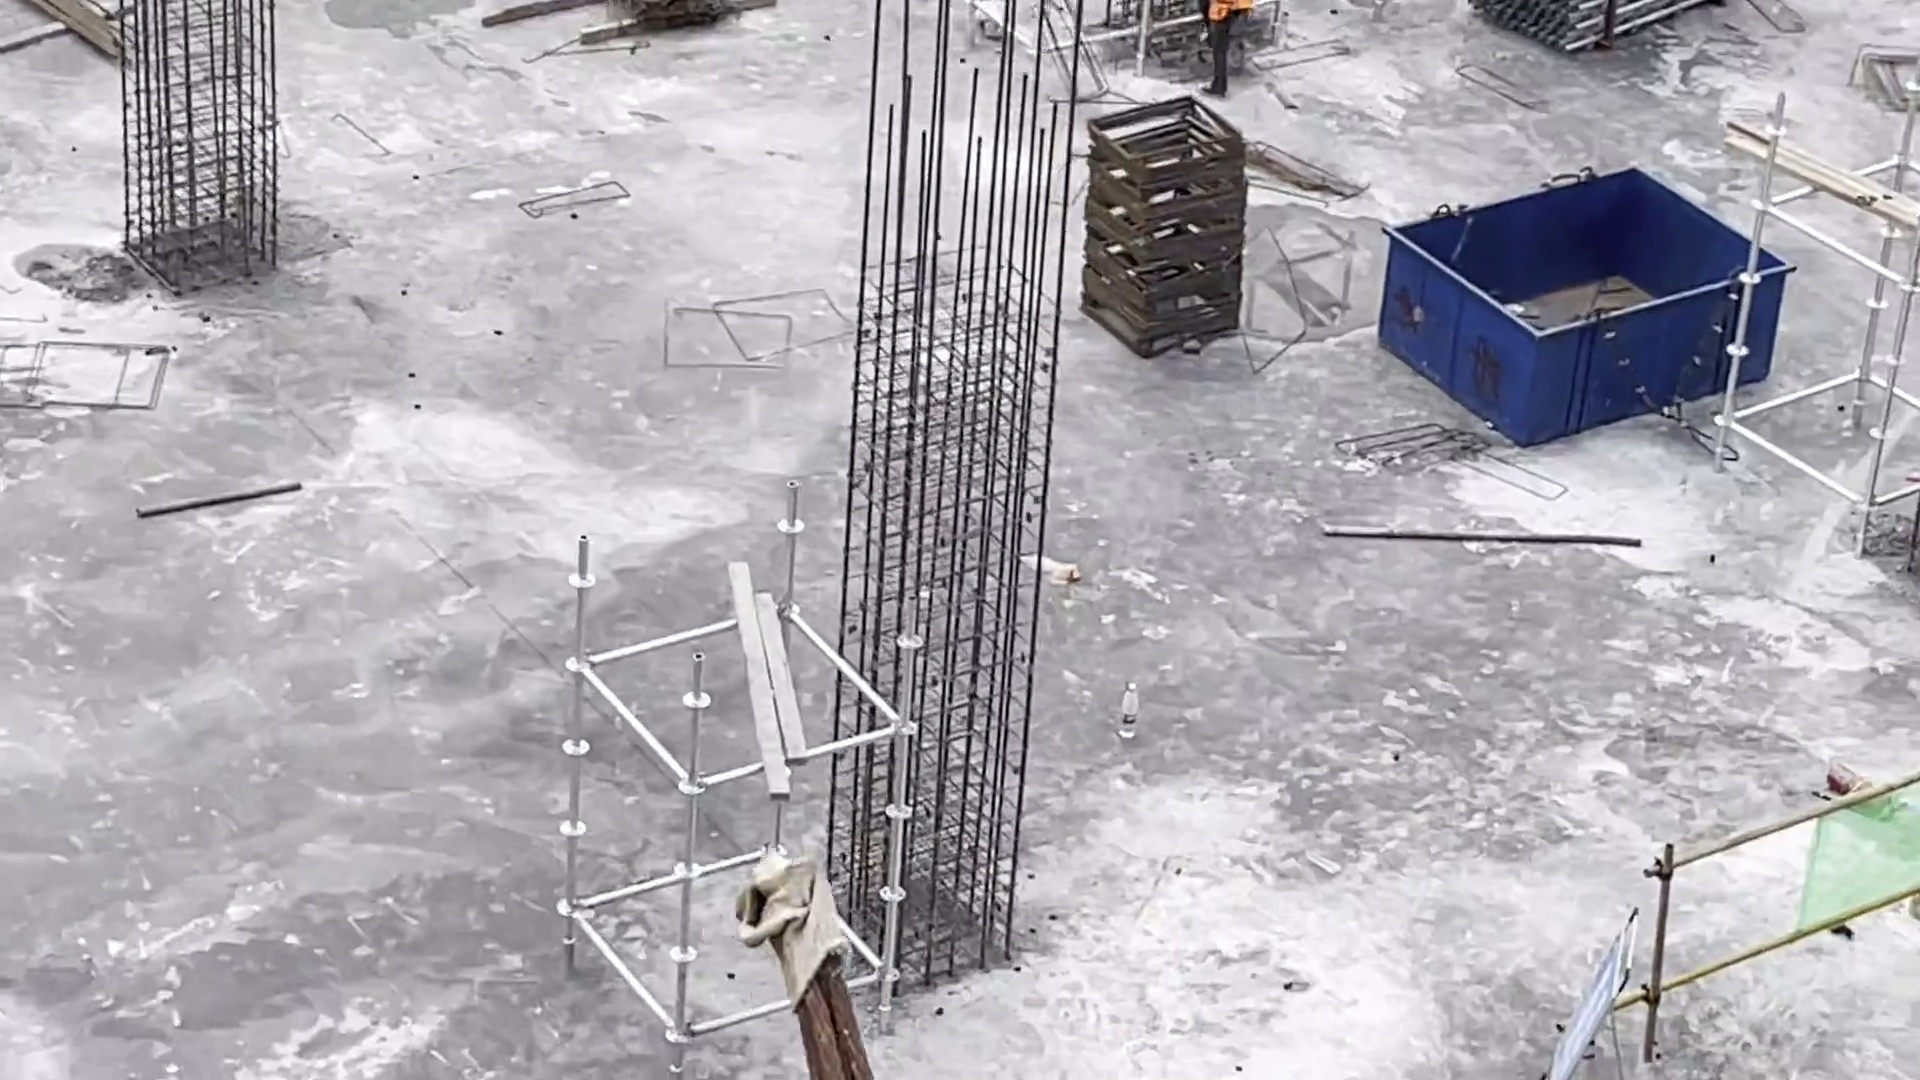hopper: (1375, 152, 1793, 446)
person: (1195, 1, 1263, 101)
scaffold: (1460, 1, 1691, 56)
vest: (1210, 1, 1260, 27)
